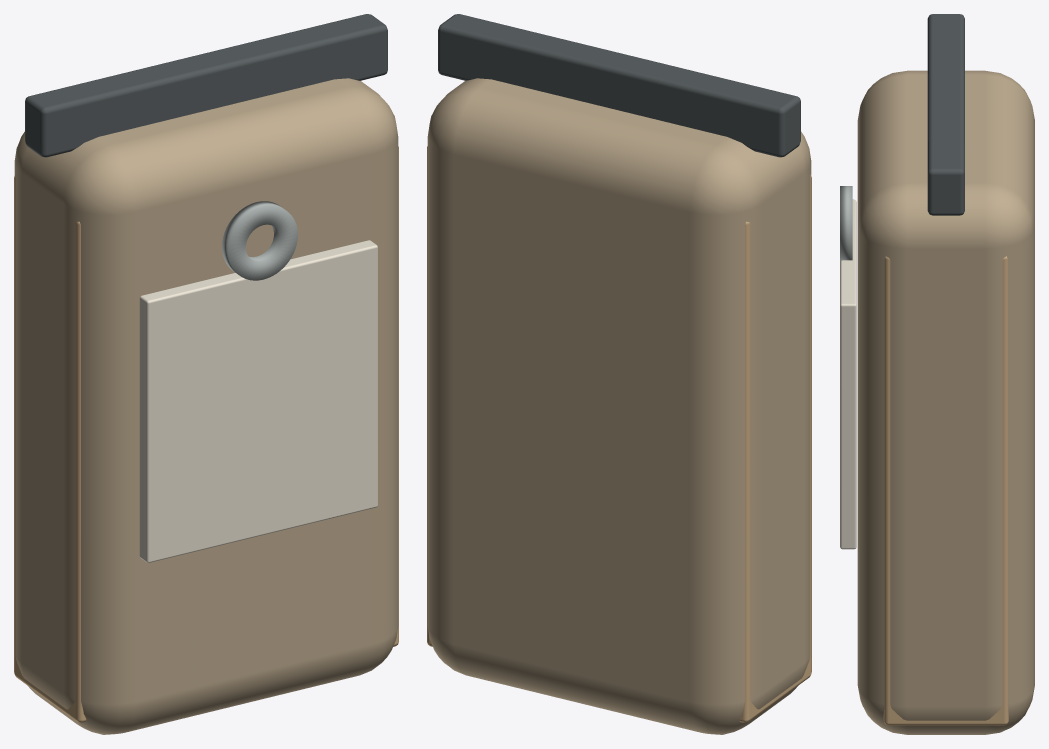
The model's file is coffee-roastery-and-cupping-room-coffee-roastery-and-c-ad4c4ba9__32221.glb.
The picture shows the model from 3 angles, left to right: view 1: azimuth 30°, elevation 25°; view 2: azimuth 150°, elevation 25°; view 3: azimuth 270°, elevation 25°; orthographic projection. The views are drawn at different scales.
Parts seen in each view (by area): view 1: coffee-roastery-and-cupping-room-coffee-retail-pouch; view 2: coffee-roastery-and-cupping-room-coffee-retail-pouch; view 3: coffee-roastery-and-cupping-room-coffee-retail-pouch.
Part boxes in pixels (<box>): coffee-roastery-and-cupping-room-coffee-retail-pouch: <box>14,14,398,734</box>; coffee-roastery-and-cupping-room-coffee-retail-pouch: <box>427,14,811,734</box>; coffee-roastery-and-cupping-room-coffee-retail-pouch: <box>840,14,1034,734</box>.
Size of the model in its own units: 0.18 by 0.31 by 0.0935.
